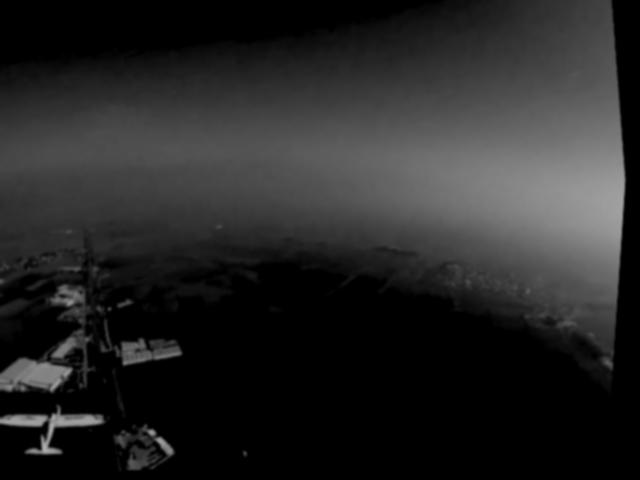hedef: (0, 387, 125, 473)
